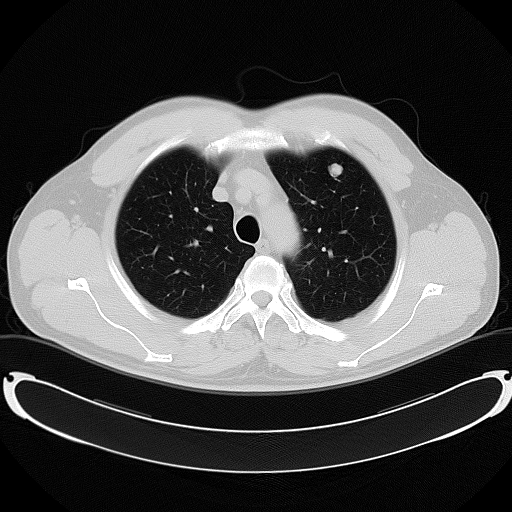nodule: (326, 162, 344, 179)
